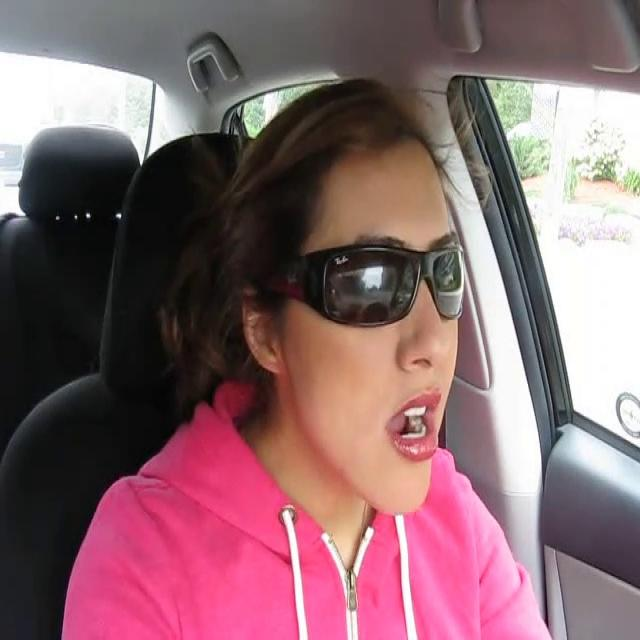open: (385, 384, 443, 463)
